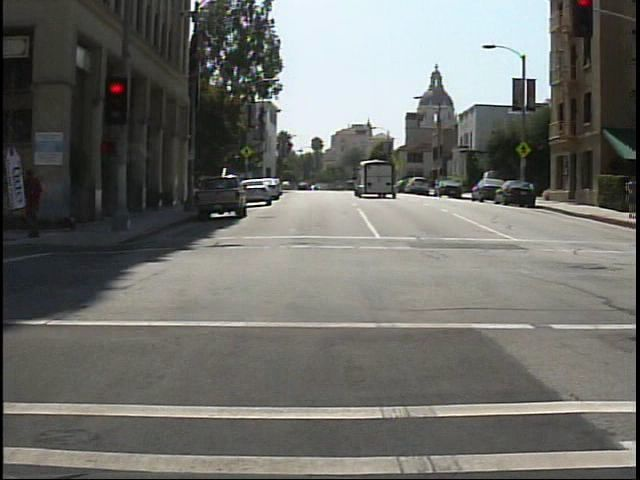person: (14, 164, 54, 244), (621, 174, 639, 221)
